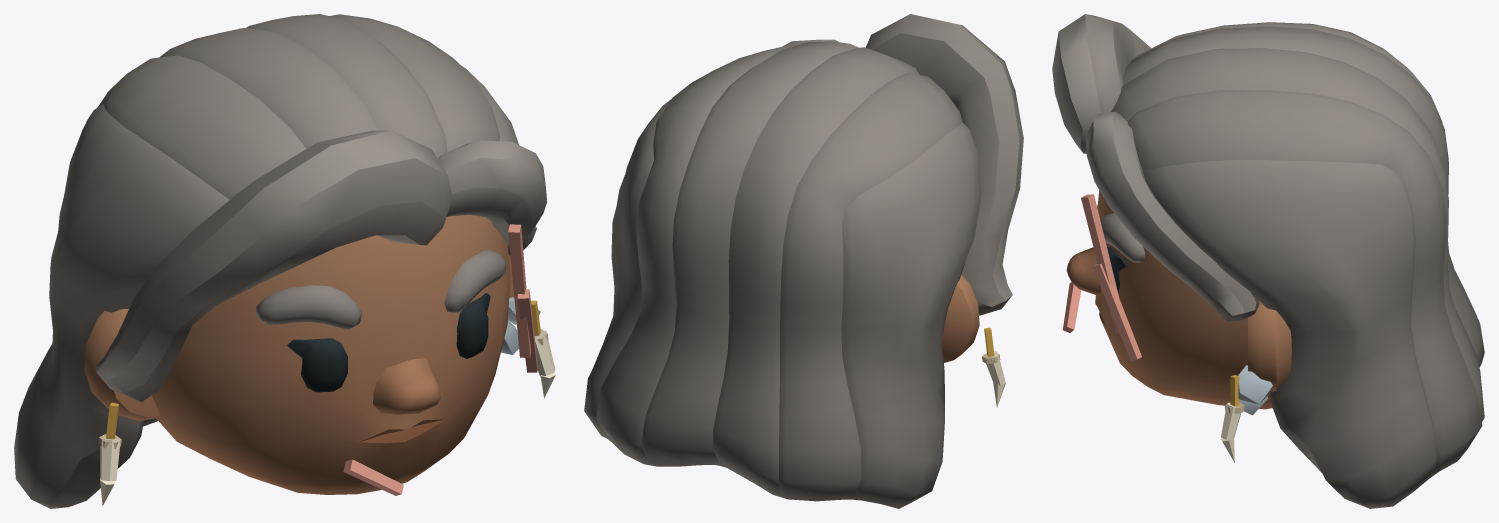
The model's file is varga_head.glb.
3 renders of one model, left to right at view 1: azimuth 30°, elevation 25°; view 2: azimuth 150°, elevation 25°; view 3: azimuth 270°, elevation 25°, orthographic. The views are drawn at different scales.
Visible parts, largest first — view 1: varga_head; view 2: varga_head; view 3: varga_head.
Part boxes in pixels (left/top/right/bottom): varga_head: left=14, top=14, right=555, bottom=508; varga_head: left=584, top=14, right=1023, bottom=508; varga_head: left=1052, top=14, right=1484, bottom=508.
Bounding box in the file's own units: 1.16 × 1.13 × 1.14.
5 materials, 1 textured.
